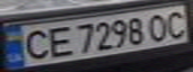2: (93, 18, 115, 52)
7: (72, 20, 96, 55)
8: (124, 15, 148, 46)
9: (109, 17, 130, 50)
C: (18, 27, 51, 62), (160, 7, 193, 39)
E: (42, 24, 75, 58)
O: (142, 11, 175, 43)
